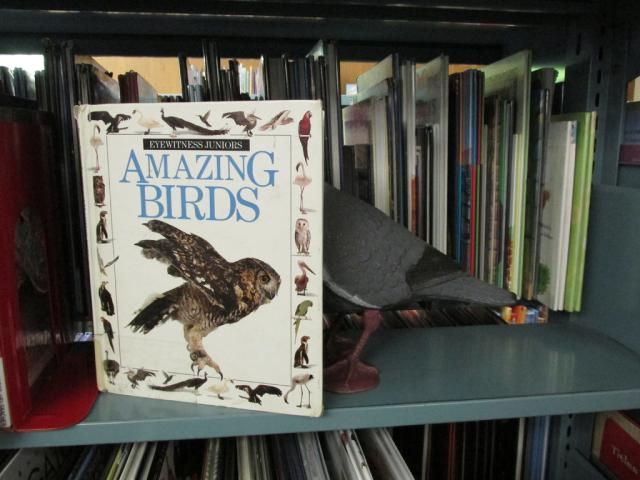Bird: (324, 181, 518, 396), (124, 216, 280, 381), (158, 107, 230, 133), (147, 370, 207, 394), (86, 108, 130, 134), (285, 370, 314, 407), (222, 109, 263, 135), (131, 106, 166, 136), (233, 383, 282, 404), (292, 159, 310, 212), (296, 108, 312, 164), (294, 260, 317, 297), (292, 300, 312, 340), (101, 314, 120, 354), (258, 109, 294, 130), (98, 278, 117, 317), (293, 218, 312, 256), (88, 123, 103, 171), (124, 366, 152, 390), (292, 333, 310, 369), (98, 244, 117, 276), (102, 350, 120, 383), (204, 380, 234, 399), (92, 173, 108, 208), (96, 208, 107, 243), (195, 110, 209, 126), (163, 371, 175, 385)
